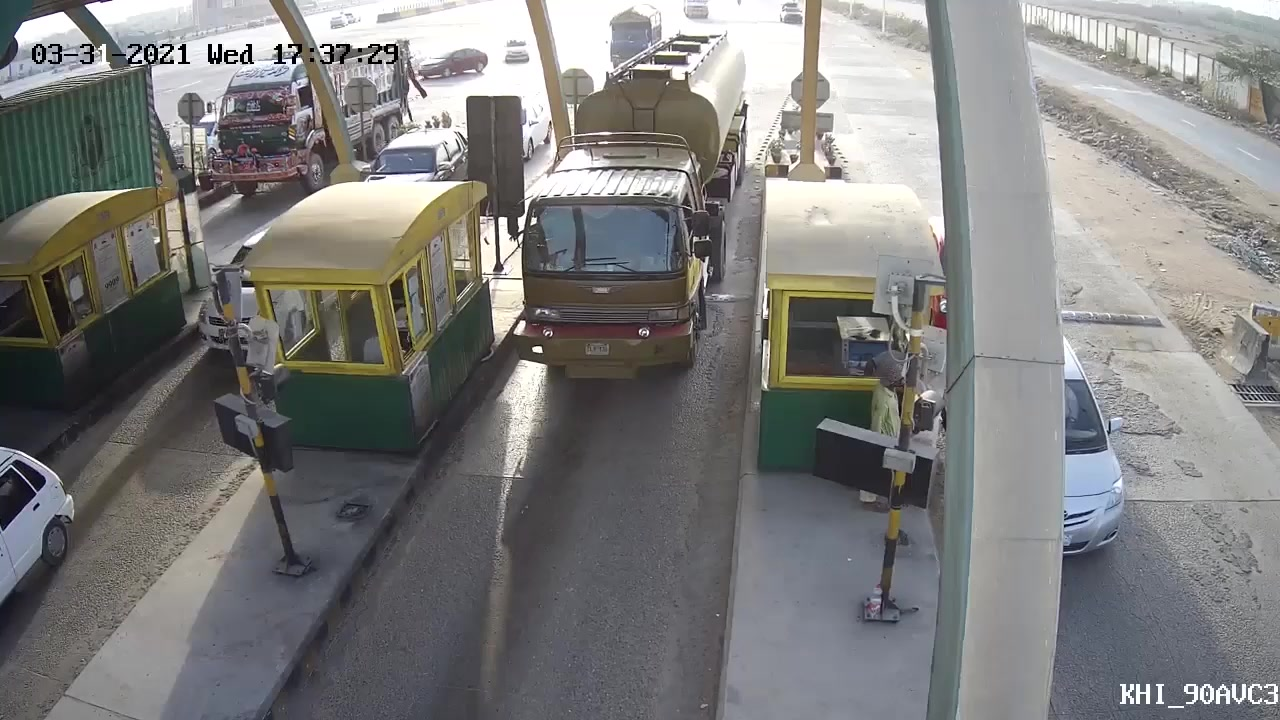F6: (513, 27, 755, 383)
